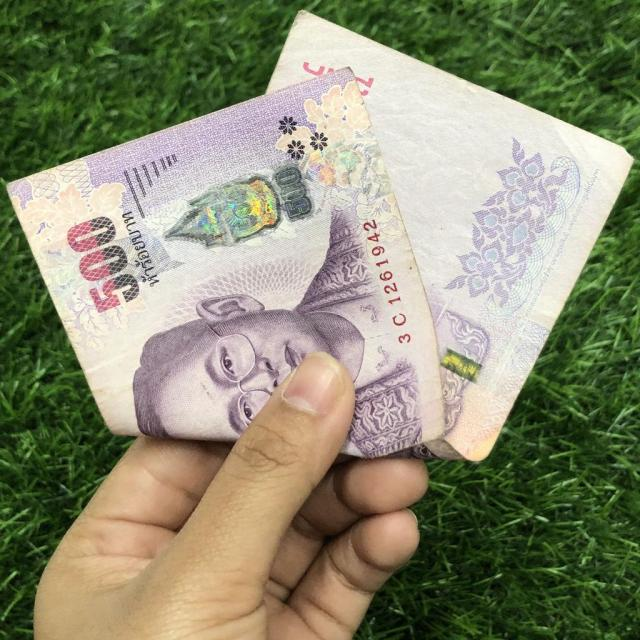THAI500: (6, 11, 634, 464)
